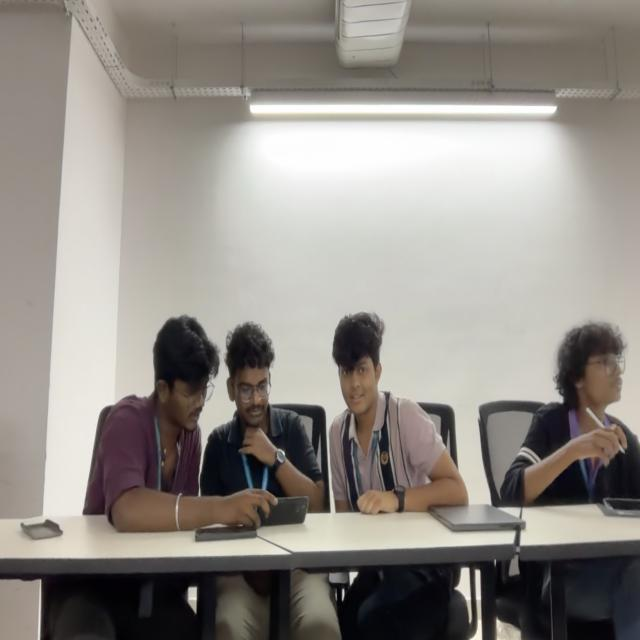Isolated: (509, 329, 640, 506)
socializing: (100, 313, 468, 519)
